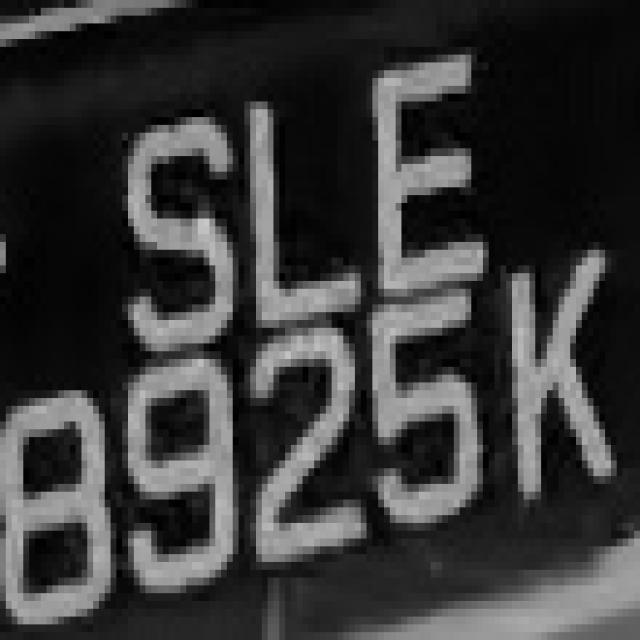2: (233, 304, 390, 570)
5: (361, 274, 483, 546)
8: (6, 366, 122, 616)
9: (111, 352, 250, 624)
E: (366, 39, 501, 297)
K: (489, 234, 611, 507)
L: (232, 70, 360, 351)
S: (99, 94, 227, 351)
